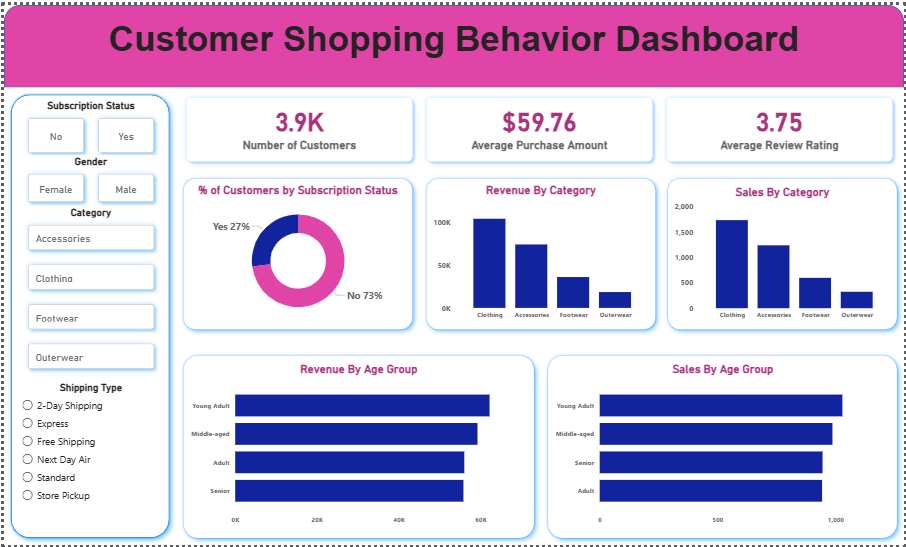

Layout of this report page (visuals, bound fields, positions):
{"tool":"powerbi","page":{"name":"Page 1","canvas":[1500,900],"ordinal":0},"visuals":[{"type":"cardVisual","fields":{"Data":["public customer.Number of Customers","public customer.Average Purchase Amount","public customer.Average Review Rating"]},"box":[287.5,137.5,1212.5,140],"z":0},{"type":"shape","box":[0,0,1500,137.5],"z":1000},{"type":"textbox","box":[0,17.5,1500,120],"z":2000},{"type":"shape","box":[287.5,277.5,405,275],"z":3000},{"type":"donutChart","title":"% of Customers by Subscription Status","fields":{"Category":["public customer.subscription_status"],"Y":["CountNonNull(public customer.customer_id)"]},"box":[305,298,370,235],"z":4000},{"type":"shape","box":[691.2,277.5,405,275],"z":5000},{"type":"shape","box":[1095,277.5,405,275],"z":6000},{"type":"clusteredColumnChart","title":"Revenue By Category","fields":{"Y":["Sum(public customer.purchase_amount)"],"Category":["public customer.category"]},"box":[710,298,370,235],"z":7000},{"type":"clusteredColumnChart","title":"Sales By Category","fields":{"Category":["public customer.category"],"Y":["CountNonNull(public customer.customer_id)"]},"box":[1113,300,370,233],"z":8000},{"type":"shape","box":[0,137.5,287.5,762.5],"z":9000},{"type":"advancedSlicerVisual","fields":{"Values":["public customer.subscription_status"]},"box":[24,158,240,106],"z":10000},{"type":"advancedSlicerVisual","fields":{"Values":["public customer.gender"]},"box":[24,250,240,96],"z":11000},{"type":"advancedSlicerVisual","fields":{"Values":["public customer.category"]},"box":[24,334,240,292],"z":12000},{"type":"listSlicer","title":"Shipping Type","fields":{"Values":["public customer.shipping_type"]},"box":[25,627.5,240,242.5],"z":13000},{"type":"shape","box":[287.5,572.5,607.5,327.5],"z":13001},{"type":"clusteredBarChart","title":"Revenue By Age Group","fields":{"Y":["Sum(public customer.purchase_amount)"],"Category":["public customer.age_group"]},"box":[305,595.8,572.5,280],"z":13002},{"type":"shape","box":[895,572.5,605,327.5],"z":13003},{"type":"clusteredBarChart","title":"Sales By Age Group","fields":{"Category":["public customer.age_group"],"Y":["CountNonNull(public customer.customer_id)"]},"box":[913.3,595.6,571.1,280],"z":13004}]}

Visuals, with their boxes in screenshot pixels (x1, y1, x2, y2), scaled from the page's 1500x900 canvas onto the 906x547 screenshot:
cardVisual - public customer.Number of Customers x public customer.Average Purchase Amount: 174,84,905,169
shape: 0,0,905,84
textbox: 0,11,905,84
shape: 174,169,418,336
"% of Customers by Subscription Status" donutChart: 184,181,408,324
shape: 417,169,662,336
shape: 661,169,905,336
"Revenue By Category" clusteredColumnChart: 429,181,652,324
"Sales By Category" clusteredColumnChart: 672,182,896,324
shape: 0,84,174,546
advancedSlicerVisual - public customer.subscription_status: 14,96,159,160
advancedSlicerVisual - public customer.gender: 14,152,159,210
advancedSlicerVisual - public customer.category: 14,203,159,380
"Shipping Type" listSlicer: 15,381,160,529
shape: 174,348,541,546
"Revenue By Age Group" clusteredBarChart: 184,362,530,532
shape: 541,348,905,546
"Sales By Age Group" clusteredBarChart: 552,362,897,532
